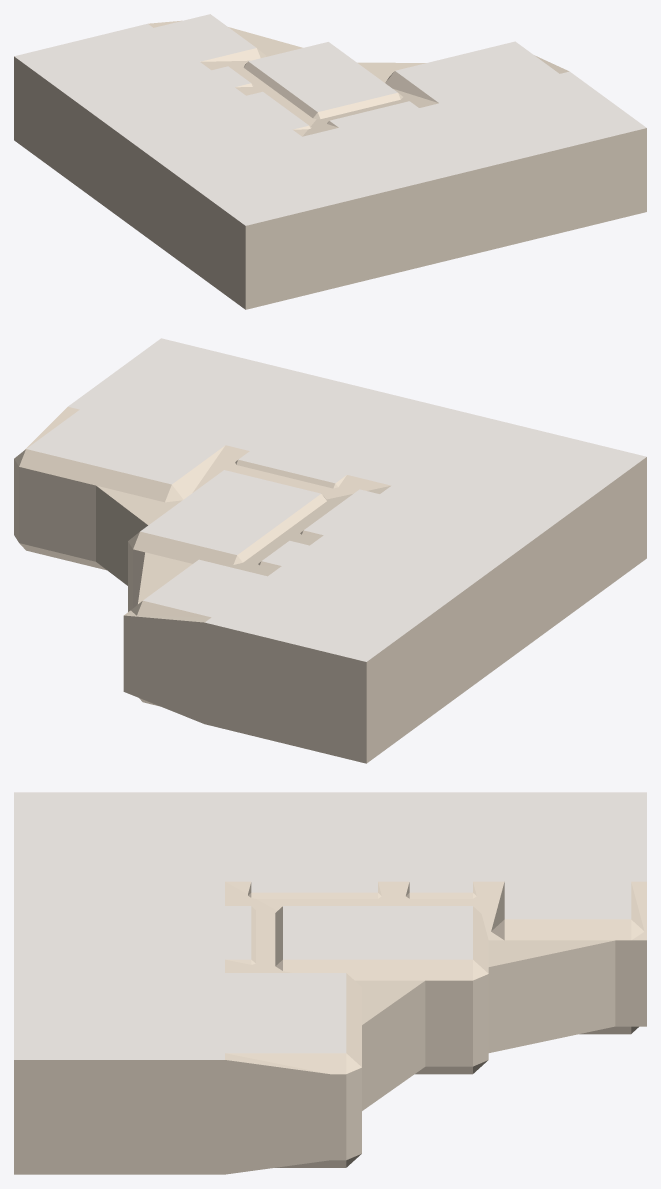
File: Floor_Ruined_Corner_Inner_1.glb
3 views of the same model, one above another, from view 1: azimuth 30°, elevation 25°; view 2: azimuth 150°, elevation 25°; view 3: azimuth 270°, elevation 25° (orthographic). The views are drawn at different scales.
Visible parts, largest first — view 1: Floor_Ruined_Corner_Inner_1; view 2: Floor_Ruined_Corner_Inner_1; view 3: Floor_Ruined_Corner_Inner_1.
Part boxes in pixels (left/top/right/bottom): Floor_Ruined_Corner_Inner_1: left=14, top=14, right=646, bottom=309; Floor_Ruined_Corner_Inner_1: left=14, top=338, right=646, bottom=763; Floor_Ruined_Corner_Inner_1: left=14, top=792, right=646, bottom=1174.
Size of the model in its own units: 0.45 by 0.09 by 0.45.
